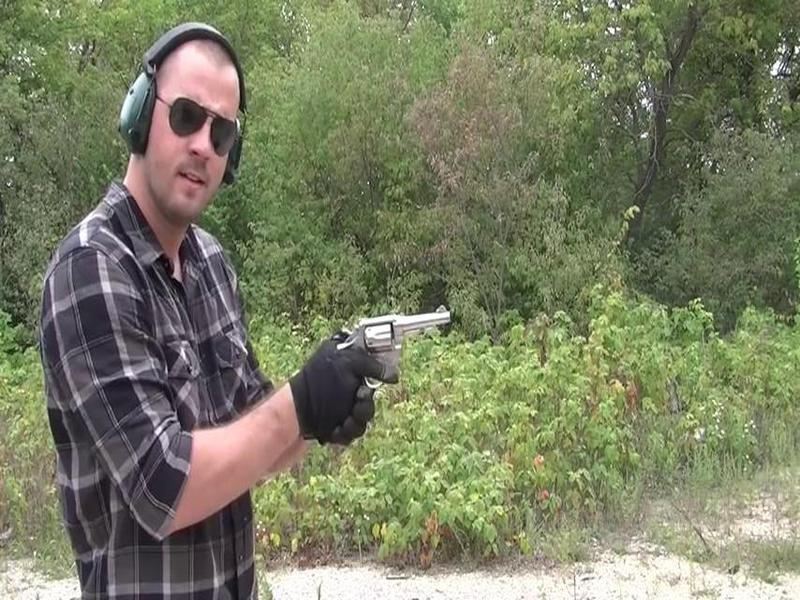Revolver: (305, 295, 461, 394)
